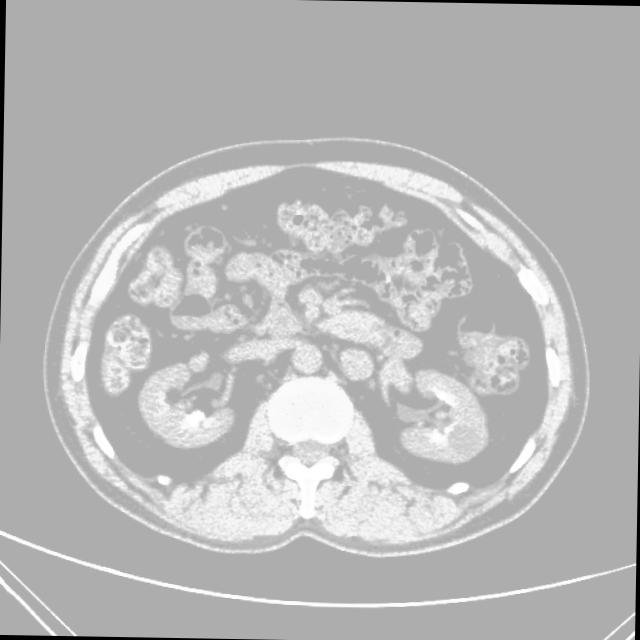STONE: (110, 231, 504, 466)
